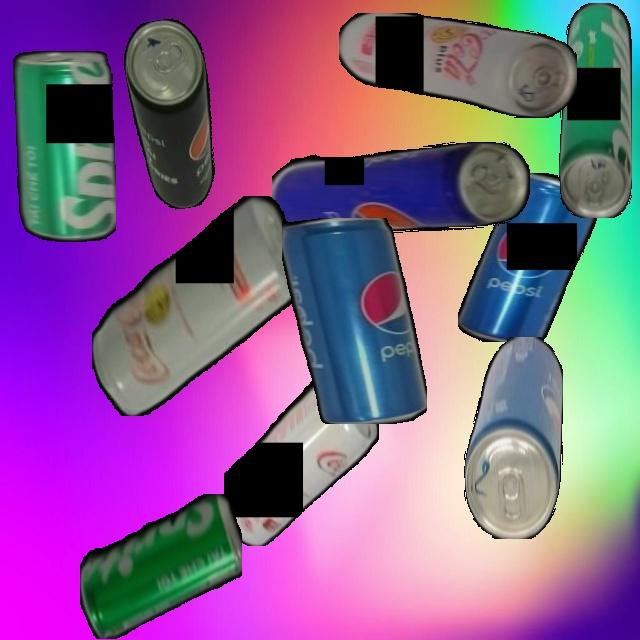debris: (91, 195, 298, 416), (281, 218, 427, 424), (223, 368, 379, 546), (338, 13, 577, 118), (458, 172, 602, 342), (79, 493, 242, 639), (271, 142, 530, 233), (118, 14, 229, 214), (463, 336, 563, 539), (12, 51, 116, 242), (558, 2, 632, 218)
